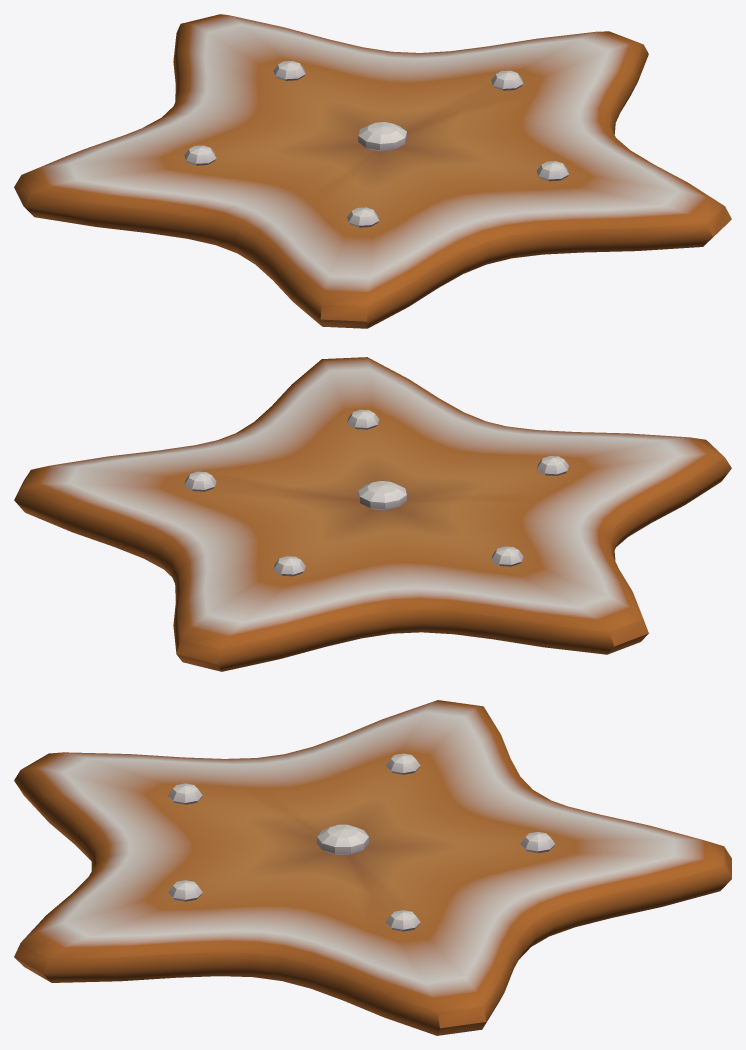
File: gingerbread.glb
The picture shows the model from 3 angles, top to bottom: view 1: azimuth 30°, elevation 25°; view 2: azimuth 150°, elevation 25°; view 3: azimuth 270°, elevation 25°; orthographic projection. The views are drawn at different scales.
Parts seen in each view (by area): view 1: body; view 2: body; view 3: body.
Part boxes in pixels (bbox=[...]): body: bbox=[14, 14, 731, 328]; body: bbox=[14, 357, 731, 671]; body: bbox=[14, 700, 731, 1035].
Size of the model in its own units: 0.9686 by 0.08 by 0.9212.
